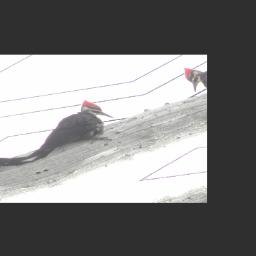Woodpecker: (0, 95, 133, 165)
